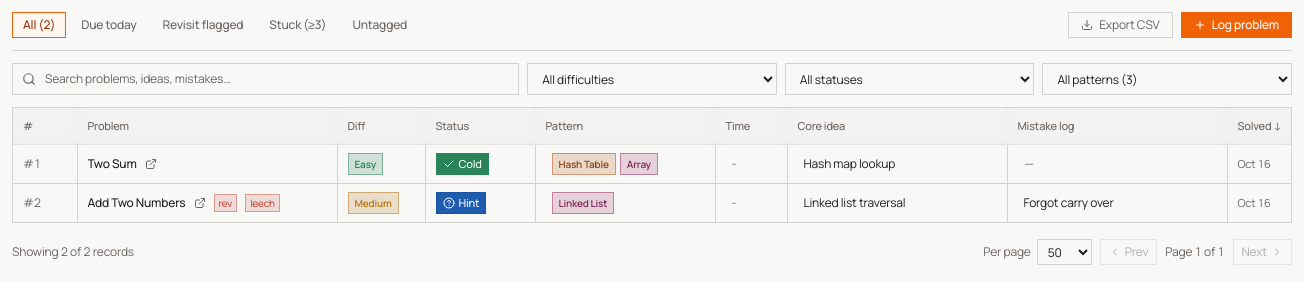
DataTable › filters problems by preset view (Leech)
Click the button "Stuck (≥3)".
click(298, 25)  # box [258, 12, 337, 38]
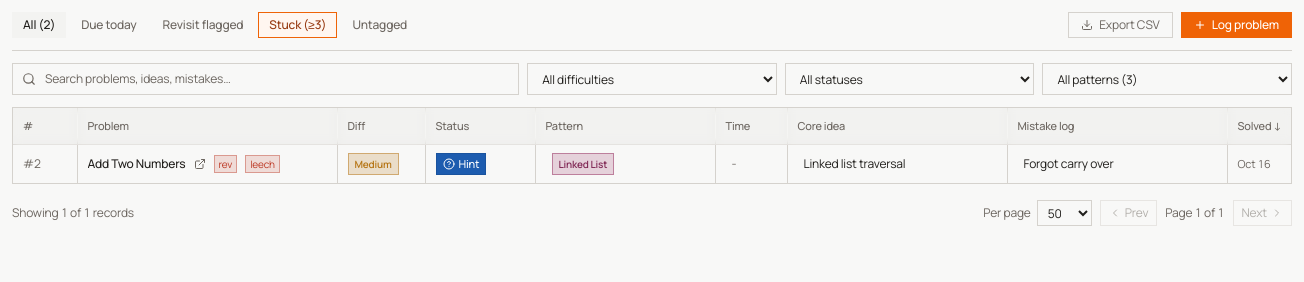
Expected: the link "Two Sum" is gone
Expected: the link "Add Two Numbers" is shown, [88, 156, 186, 172]
